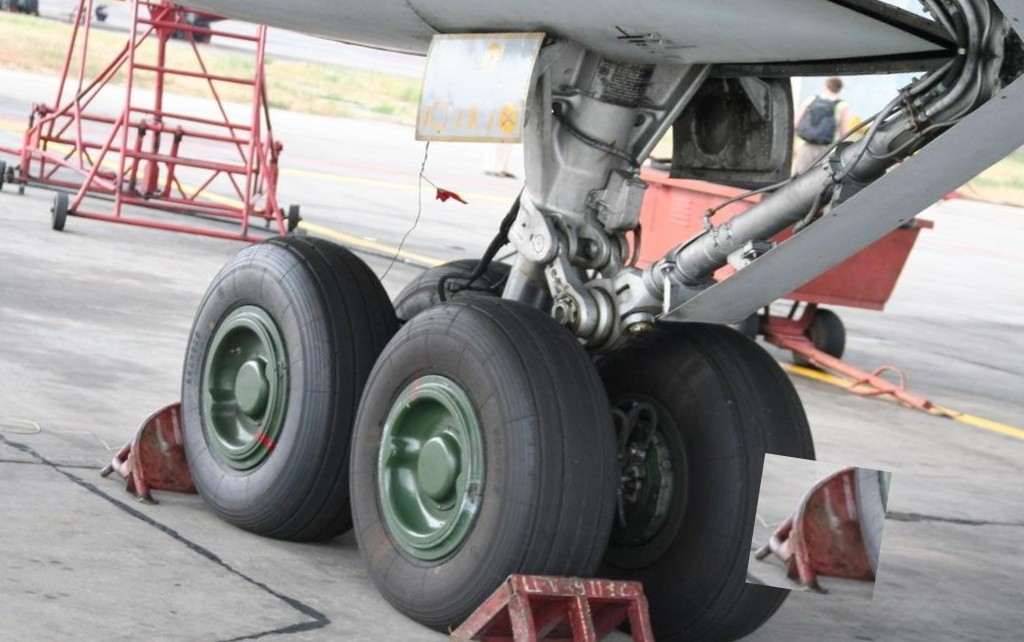chock: (746, 453, 892, 602), (445, 550, 679, 642), (93, 392, 210, 511)
wheel: (319, 277, 646, 642), (560, 309, 843, 642), (157, 219, 398, 549), (391, 247, 518, 332)
